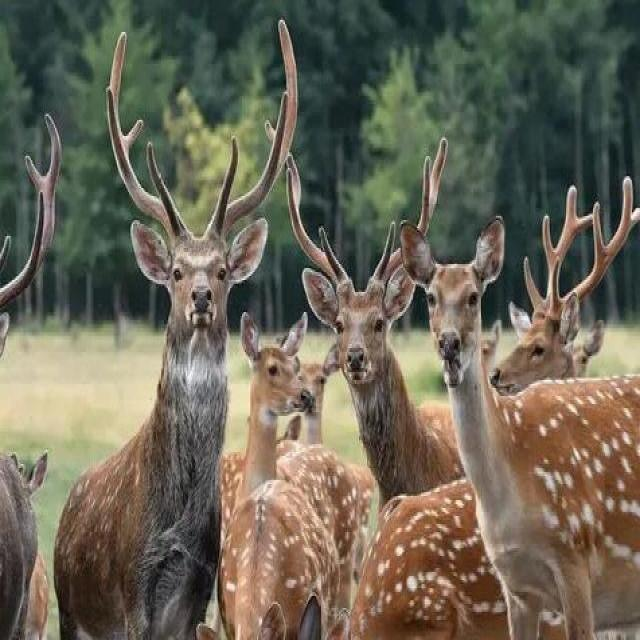deer: (375, 236, 640, 640), (88, 212, 300, 640), (215, 335, 362, 628)
